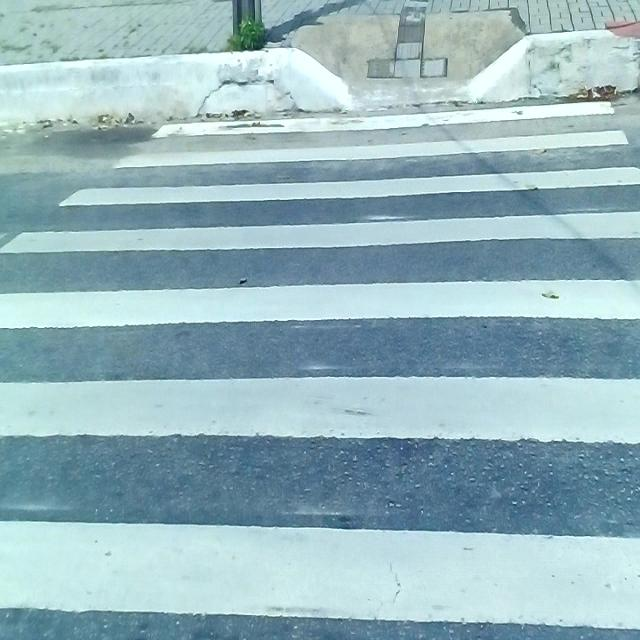crosswalk: (0, 96, 640, 640)
